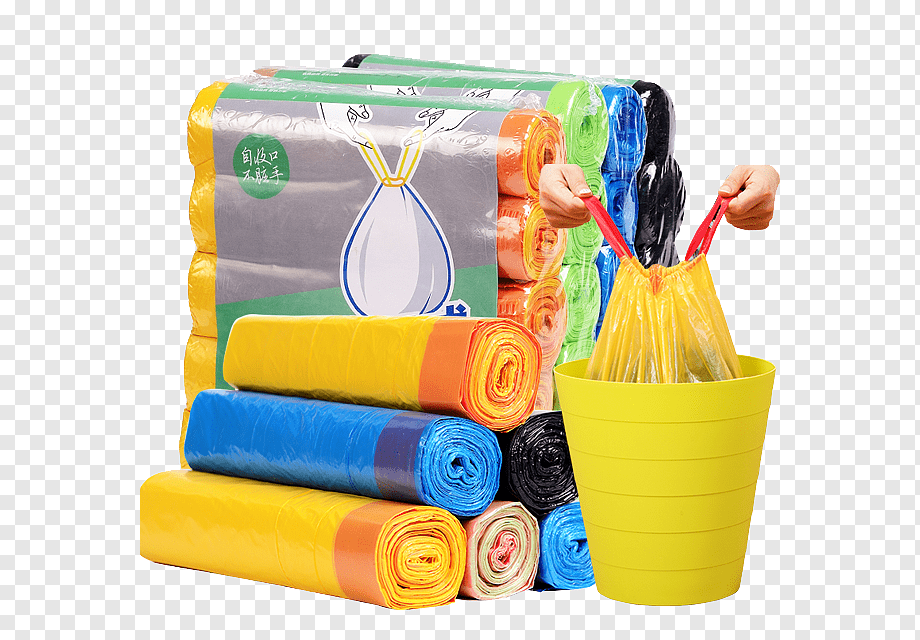plastic_bagwdw: (148, 23, 815, 332), (531, 118, 838, 493), (91, 420, 467, 640), (160, 359, 522, 572), (187, 281, 551, 457)
